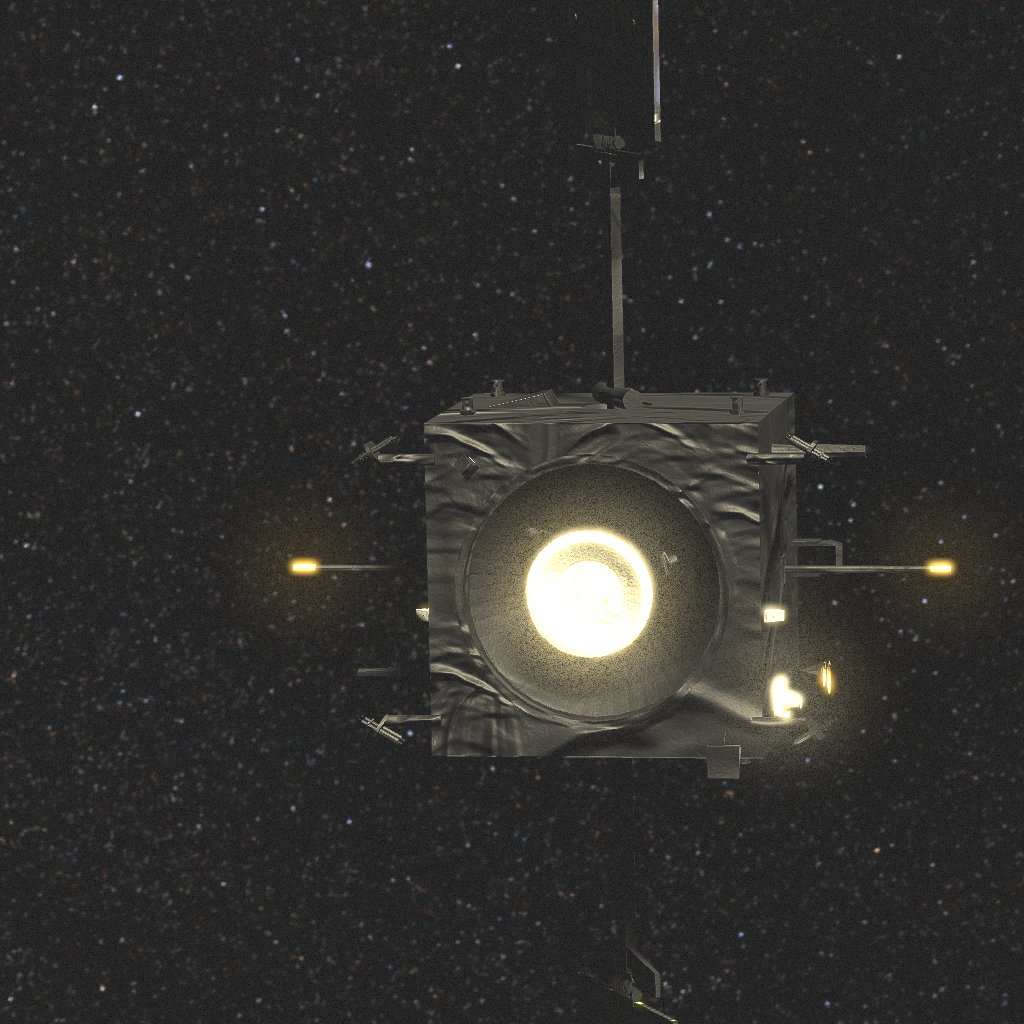smart_1: (293, 0, 951, 1024)
